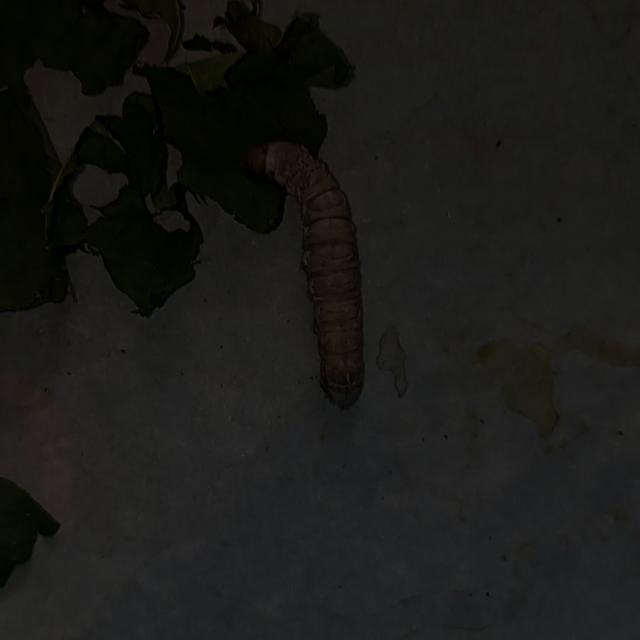Grasserie: (240, 134, 380, 417)
